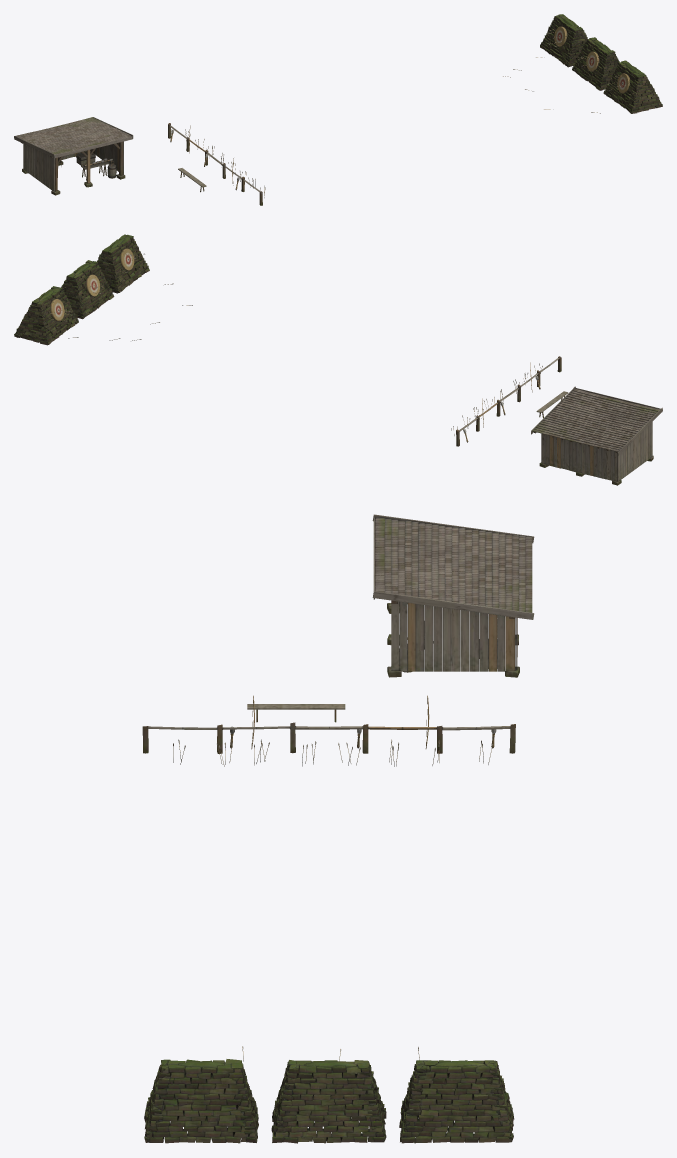
File: archery_range.glb
3 renders of one model, top to bottom at view 1: azimuth 30°, elevation 25°; view 2: azimuth 150°, elevation 25°; view 3: azimuth 270°, elevation 25°, orthographic. The views are drawn at different scales.
Parts seen in each view (by area): view 1: archery_range_LOD0; view 2: archery_range_LOD0; view 3: archery_range_LOD0.
Part boxes in pixels (x1=…): archery_range_LOD0: x1=14, y1=14, x2=662, y2=205; archery_range_LOD0: x1=14, y1=234, x2=662, y2=485; archery_range_LOD0: x1=142, y1=514, x2=534, y2=1143.
Size of what is drawn, in the model's own units: 38.97 by 3.11 by 11.96.
1 material, 1 textured.
